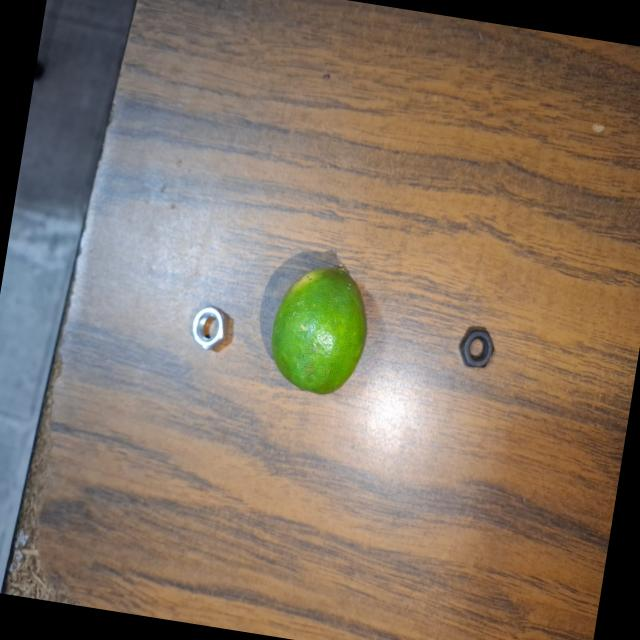limon: (262, 245, 379, 404)
milimetrico: (448, 314, 501, 380)
tuerca: (182, 294, 236, 356)
